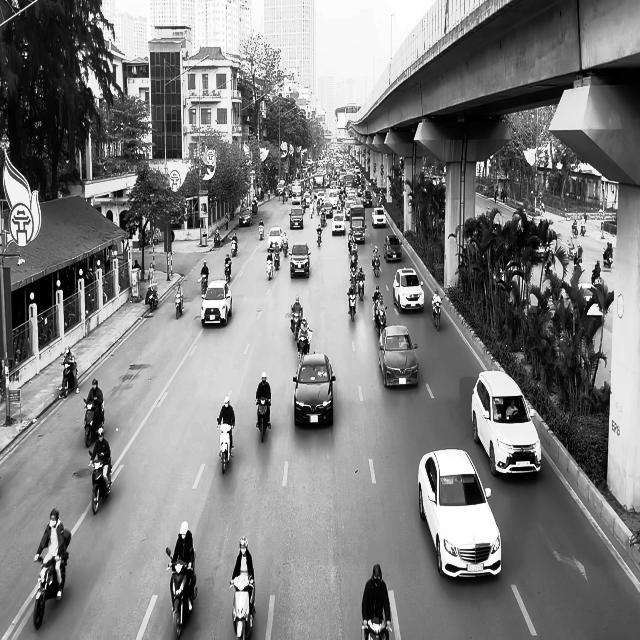car: (418, 448, 502, 579), (471, 370, 542, 476), (292, 351, 336, 426), (378, 324, 419, 388), (201, 279, 232, 327), (393, 267, 424, 313), (289, 242, 310, 278), (383, 234, 402, 262), (266, 226, 283, 250), (332, 212, 346, 235), (290, 206, 304, 229), (371, 207, 386, 227), (239, 207, 252, 226)
motorbike: (165, 546, 198, 639), (229, 576, 256, 640), (89, 453, 112, 514), (83, 396, 104, 447), (217, 419, 234, 474), (58, 362, 79, 399), (255, 397, 271, 443), (375, 306, 387, 336), (147, 283, 158, 312), (432, 299, 442, 330), (347, 290, 356, 322), (602, 244, 613, 267), (198, 274, 208, 297), (175, 292, 183, 319), (266, 256, 274, 280), (372, 256, 381, 277), (224, 262, 231, 284), (316, 227, 322, 246), (231, 239, 237, 256)
